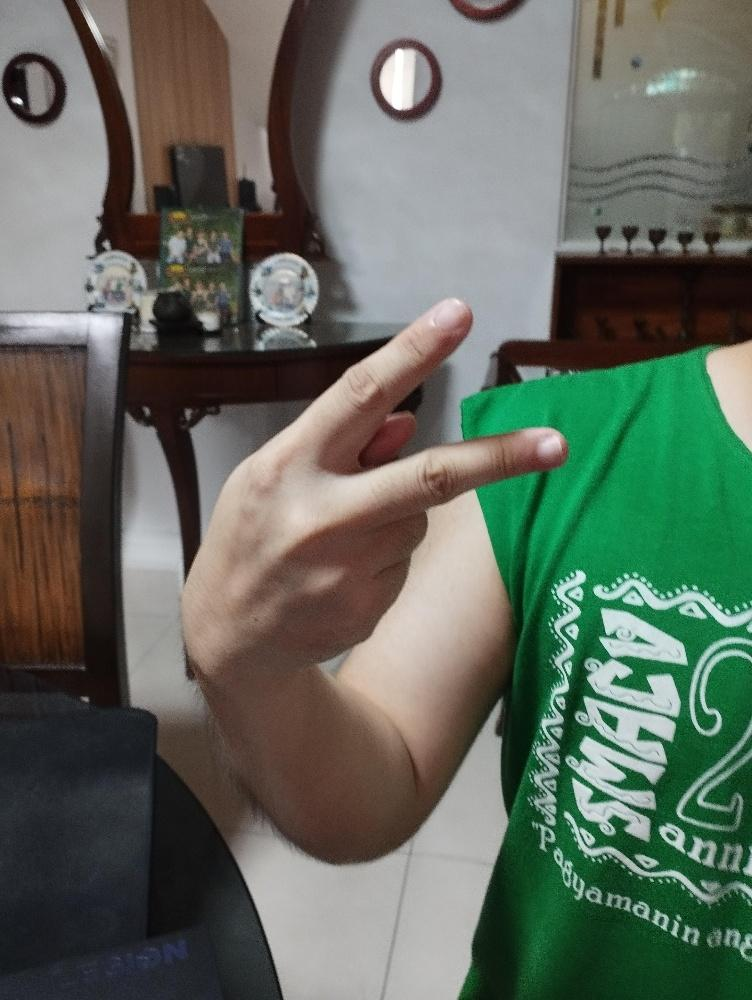k: (176, 293, 571, 675)
